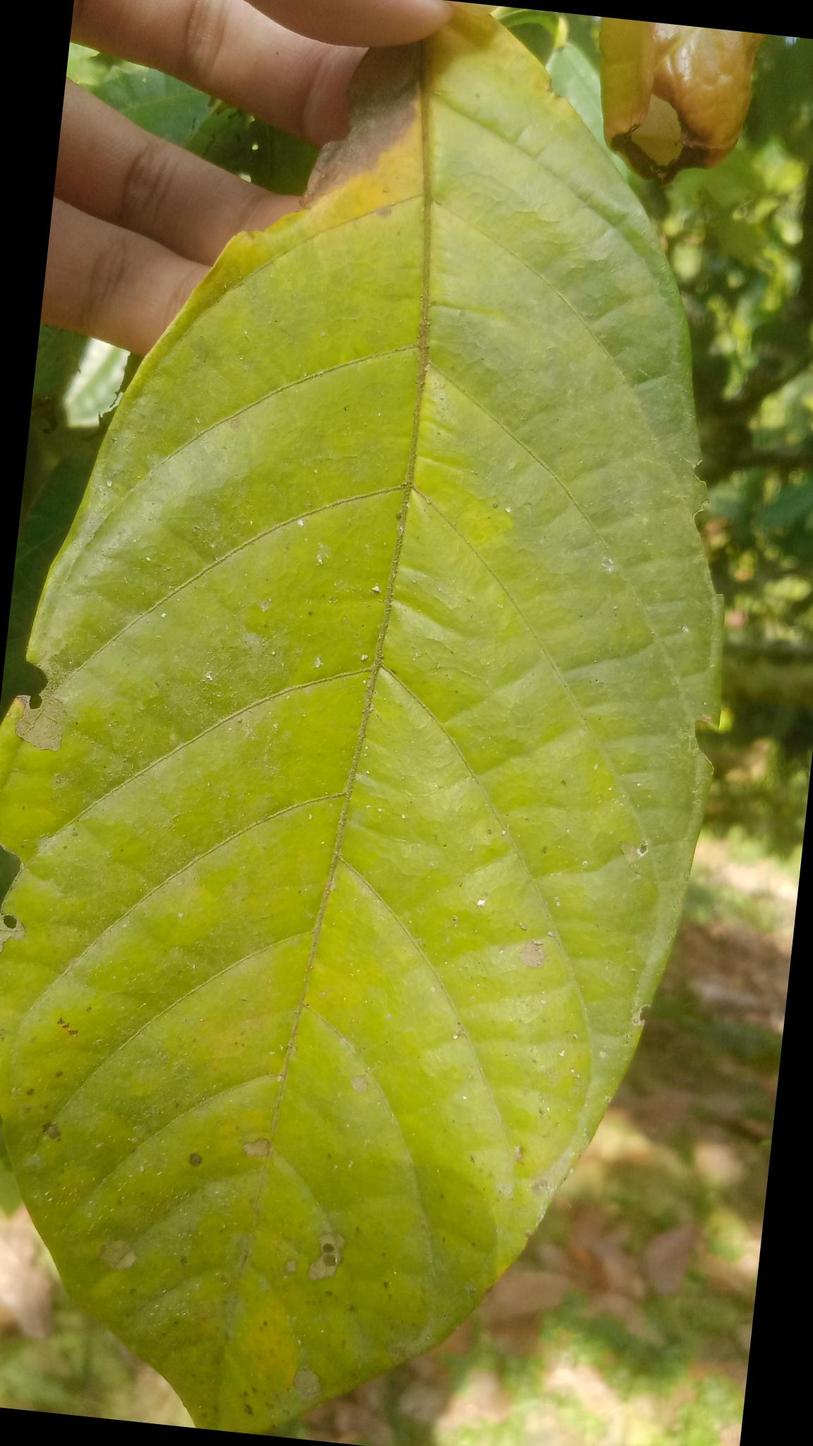Potasio: (0, 16, 719, 1427)
